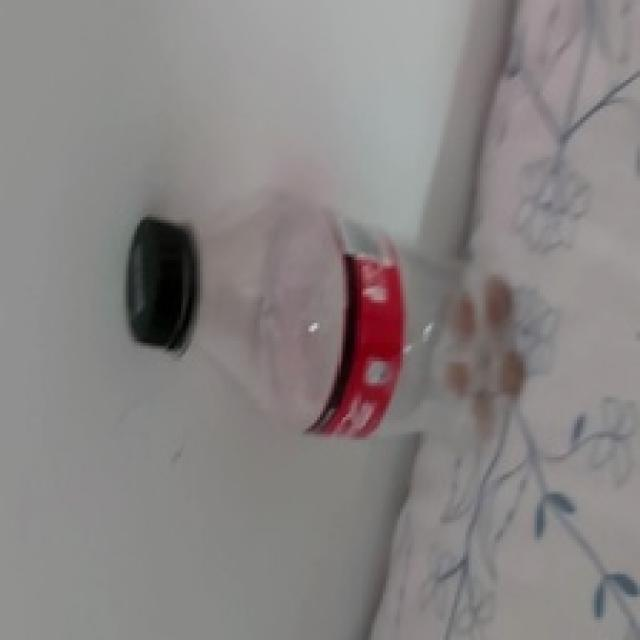Plastic: (130, 195, 526, 438)
